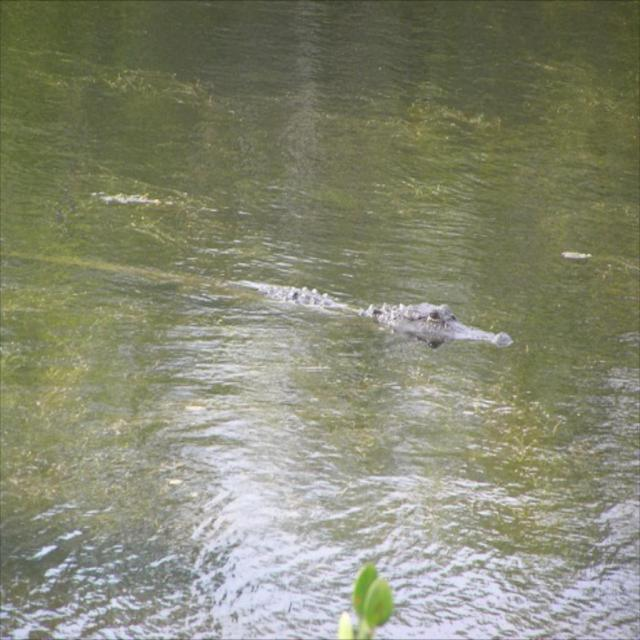crocodile: (15, 245, 523, 365)
